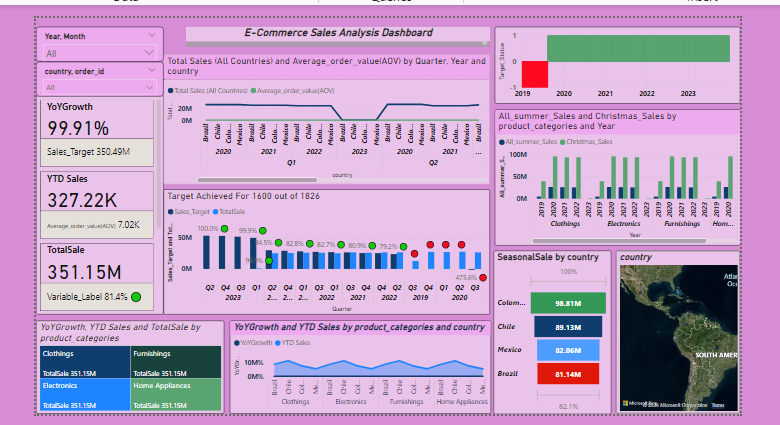

Layout of this report page (visuals, bound fields, positions):
{"tool":"powerbi","page":{"name":"Sales Dasboard","canvas":[1280,720],"ordinal":0},"visuals":[{"type":"cardVisual","fields":{"Data":["purchase.YoYGrowth","purchase.YTD Sales","purchase.TotalSale","purchase.Total_Transaction","purchase.Monthly_Target_Reached"]},"box":[0,142,232.1,398.8],"z":1000},{"type":"clusteredColumnChart","fields":{"Y":["purchase.Target_Statue"],"Category":["Calender.Date"]},"box":[833.3,16.7,446.2,139.7],"z":2000},{"type":"clusteredColumnChart","fields":{"Y":["purchase.Sales_Target","purchase.TotalSale"],"Category":["Calender.Year","Calender.Quarter"]},"box":[232.2,301.1,593.3,240],"z":3000},{"type":"funnel","fields":{"Category":["location.country"],"Y":["purchase.SeasonalSale"]},"box":[832.9,422.4,214.1,297.6],"z":4000},{"type":"lineChart","fields":{"Category":["Calender.Quarter","Calender.Year","location.country"],"Y":["purchase.TotalSale","purchase.average_order_value(AOV)"]},"box":[232.2,62.2,593.3,227.8],"z":5000},{"type":"clusteredColumnChart","fields":{"Category":["products.product_categories","Calender.Year"],"Y":["purchase.All_summer_Sales","purchase.Christmas_Sales"]},"box":[833.3,165.4,446.9,248.1],"z":6000},{"type":"stackedAreaChart","fields":{"Category":["products.product_categories","location.country"],"Y":["purchase.YoYGrowth","purchase.YTD Sales"]},"box":[351.4,550,475,169.4],"z":7000},{"type":"treemap","fields":{"Group":["Calender.Year","products.product_categories","location.country","purchase.Order_Duration"],"Values":["purchase.YoYGrowth","purchase.YTD Sales","purchase.TotalSale"]},"box":[0,550,342.3,169.2],"z":8000},{"type":"map","fields":{"Category":["location.country"]},"box":[1053.7,422,226.8,297.6],"z":9000},{"type":"slicer","fields":{"Values":["Calender.Year","Calender.Month"]},"box":[0,16,232.1,63],"z":10000},{"type":"slicer","fields":{"Values":["location.country","products.order_id"]},"box":[0,79,232.1,63],"z":11000},{"type":"textbox","title":"E-Commerce  Sales Analysis Dashboard","box":[273.1,16.7,552.6,37.2],"z":12000}]}

Visuals, with their boxes on the page's 1280x720 design canvas (x1, y1, x2, y2). These are canvas units, not pixel positions in the 780x425 screenshot, which may show the page scaled, cropped or inside an application window:
cardVisual - purchase.YoYGrowth x purchase.YTD Sales: <bbox>0, 142, 232, 541</bbox>
clusteredColumnChart - purchase.Target_Statue x Calender.Date: <bbox>833, 17, 1280, 156</bbox>
clusteredColumnChart - purchase.Sales_Target x purchase.TotalSale: <bbox>232, 301, 826, 541</bbox>
funnel - location.country x purchase.SeasonalSale: <bbox>833, 422, 1047, 720</bbox>
lineChart - Calender.Quarter x Calender.Year: <bbox>232, 62, 826, 290</bbox>
clusteredColumnChart - products.product_categories x Calender.Year: <bbox>833, 165, 1280, 414</bbox>
stackedAreaChart - products.product_categories x location.country: <bbox>351, 550, 826, 719</bbox>
treemap - Calender.Year x products.product_categories: <bbox>0, 550, 342, 719</bbox>
map - location.country: <bbox>1054, 422, 1280, 720</bbox>
slicer - Calender.Year x Calender.Month: <bbox>0, 16, 232, 79</bbox>
slicer - location.country x products.order_id: <bbox>0, 79, 232, 142</bbox>
"E-Commerce  Sales Analysis Dashboard" textbox: <bbox>273, 17, 826, 54</bbox>
